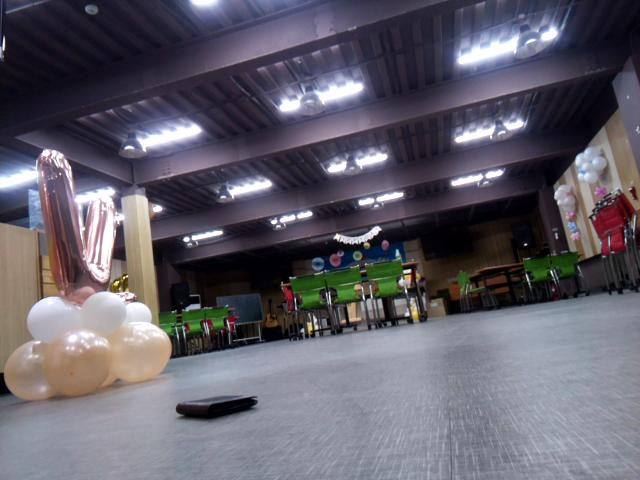wallet: (171, 388, 260, 426)
